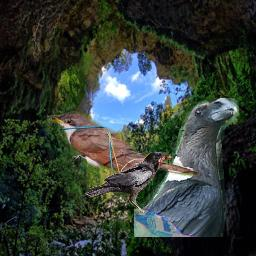Crow: (134, 98, 239, 237), (84, 149, 180, 213)
Cuckoo: (46, 109, 202, 185)
